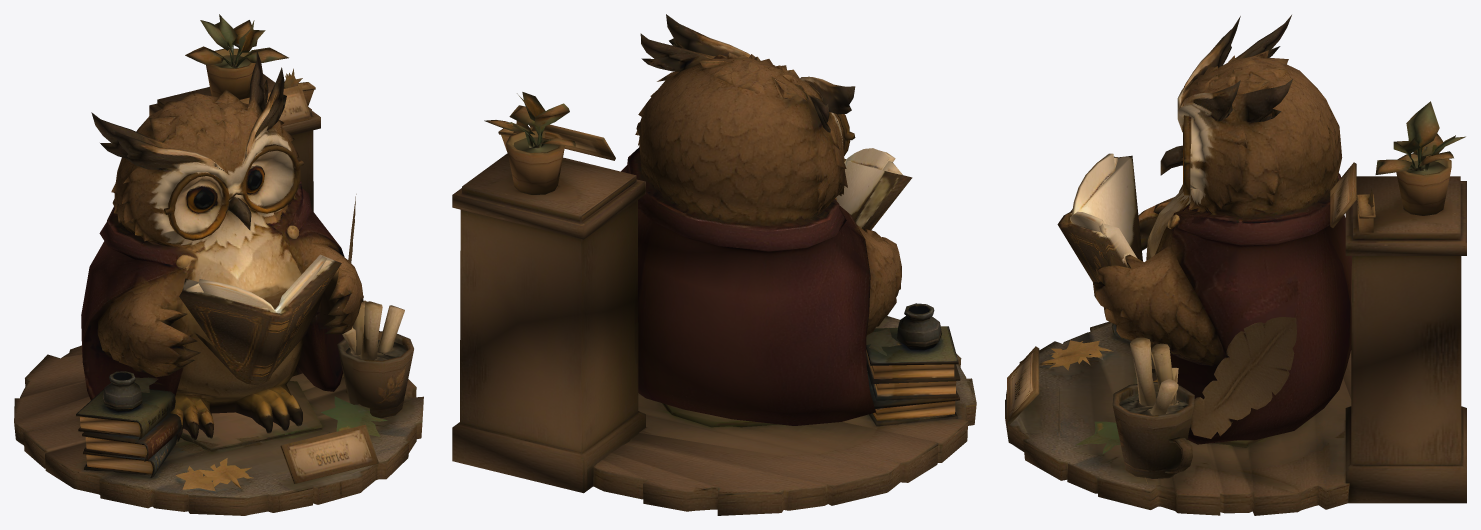
File: hero.glb
The picture shows the model from 3 angles, left to right: view 1: azimuth 30°, elevation 25°; view 2: azimuth 150°, elevation 25°; view 3: azimuth 270°, elevation 25°; orthographic projection. The views are drawn at different scales.
Parts seen in each view (by area): view 1: tripo_node_1c298d2f-0084-484e-b6b5-4d88a0b4b72e; view 2: tripo_node_1c298d2f-0084-484e-b6b5-4d88a0b4b72e; view 3: tripo_node_1c298d2f-0084-484e-b6b5-4d88a0b4b72e.
Part boxes in pixels (bbox=[...]): tripo_node_1c298d2f-0084-484e-b6b5-4d88a0b4b72e: bbox=[14, 14, 423, 515]; tripo_node_1c298d2f-0084-484e-b6b5-4d88a0b4b72e: bbox=[452, 14, 976, 515]; tripo_node_1c298d2f-0084-484e-b6b5-4d88a0b4b72e: bbox=[1005, 15, 1466, 515].
Size of the model in its own units: 0.9668 by 0.9004 by 0.998.
Materials: 1 (1 with a texture image).
